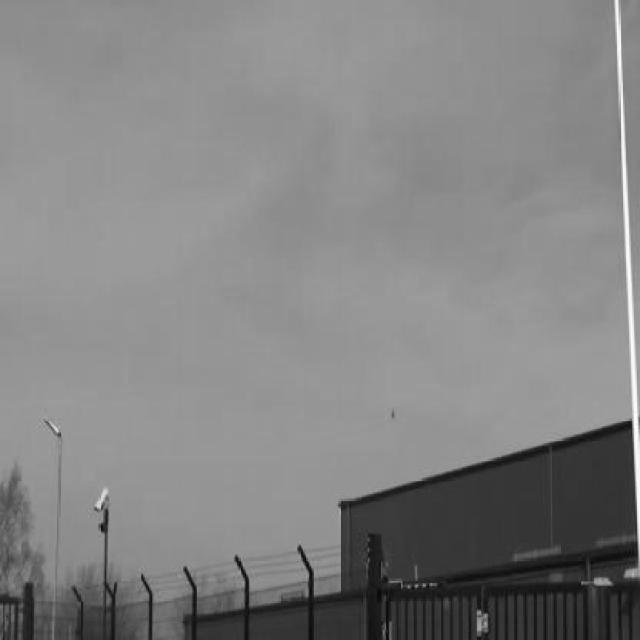helikopter: (389, 404, 398, 430)
